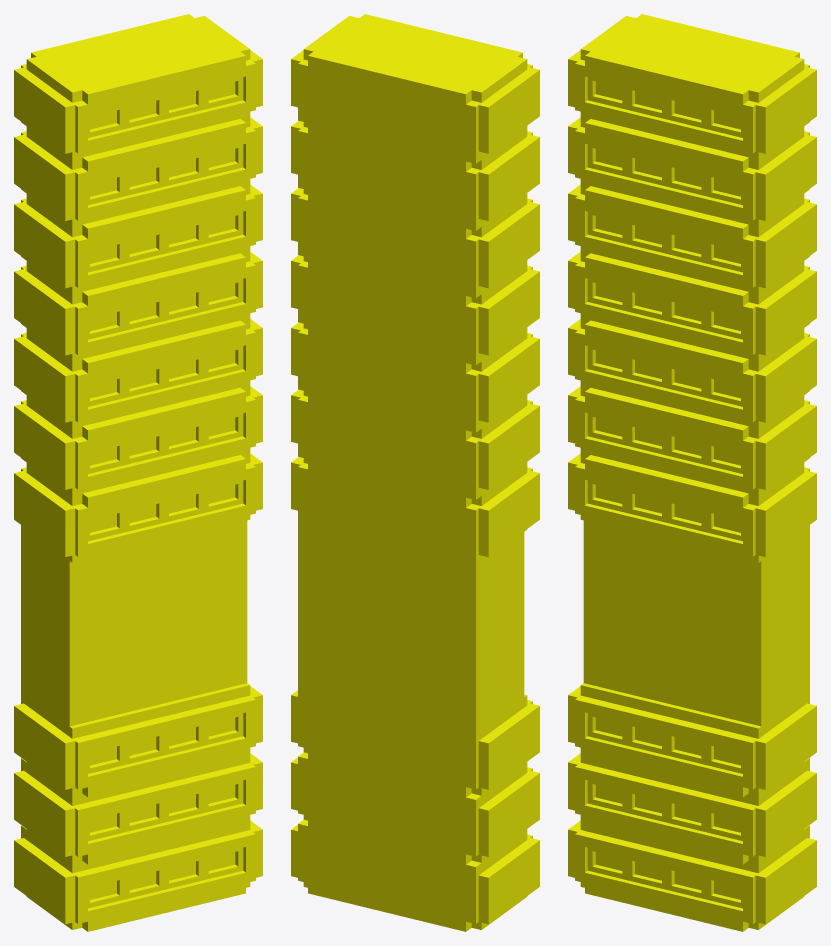
3 renders of one model, left to right at view 1: azimuth 30°, elevation 25°; view 2: azimuth 150°, elevation 25°; view 3: azimuth 330°, elevation 25°, orthographic.
Parts seen in each view (by area): view 1: Building_3; view 2: Building_3; view 3: Building_3.
Part boxes in pixels (box(x1,y1,x2,y2)): Building_3: box(14, 14, 262, 931); Building_3: box(291, 14, 539, 931); Building_3: box(568, 14, 816, 931).
Size of the model in its own units: 4 by 16.2 by 2.
Materials: 1 (1 with a texture image).
